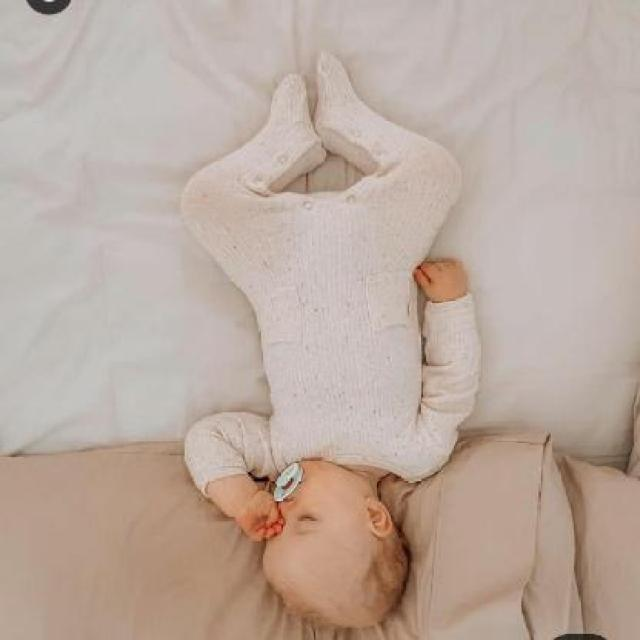baby: (180, 55, 478, 631)
